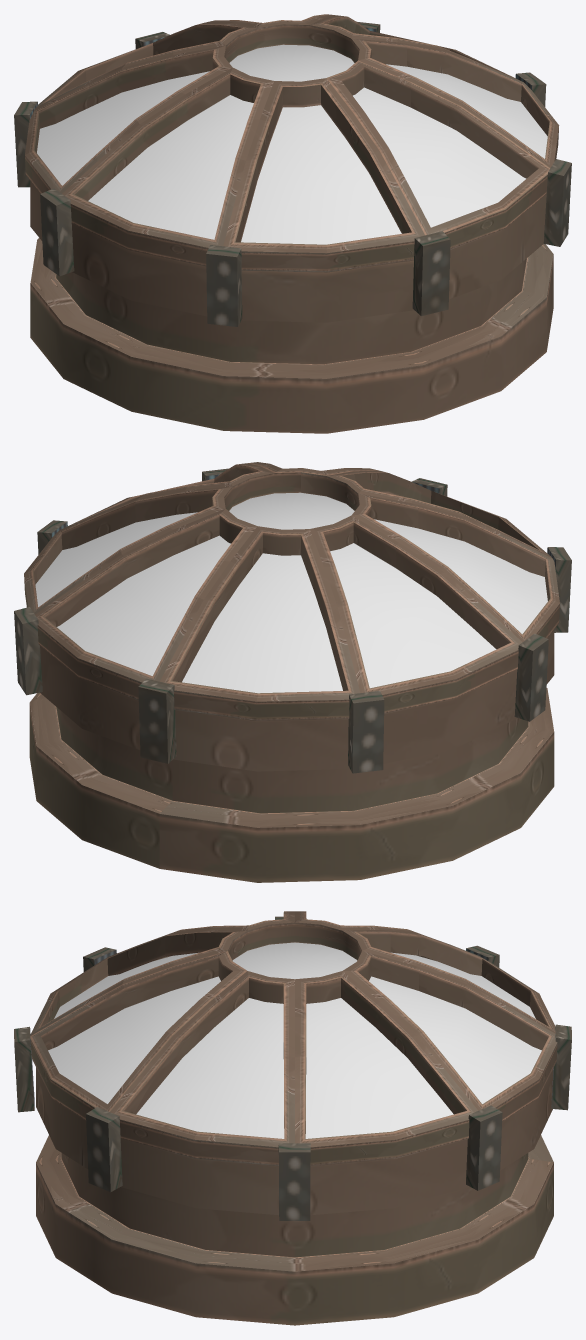
Rendered from Industry_Lamp.fbx.
The picture shows the model from 3 angles, top to bottom: view 1: azimuth 30°, elevation 25°; view 2: azimuth 150°, elevation 25°; view 3: azimuth 270°, elevation 25°; orthographic projection. The views are drawn at different scales.
Visible parts, largest first — view 1: Industry_Lamp; view 2: Industry_Lamp; view 3: Industry_Lamp.
Part boxes in pixels (x1,y1,x2,y2): Industry_Lamp: (14,14,571,433); Industry_Lamp: (14,462,571,882); Industry_Lamp: (14,911,571,1325).
Size of the model in its own units: 156 by 81.91 by 156.
